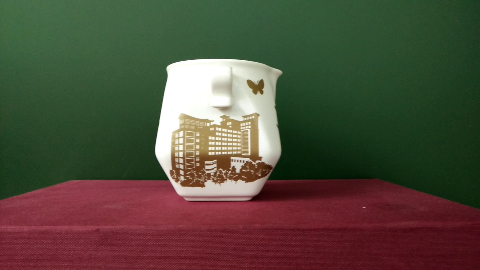butterfly: (239, 65, 278, 103)
lenwen: (173, 117, 257, 178)
